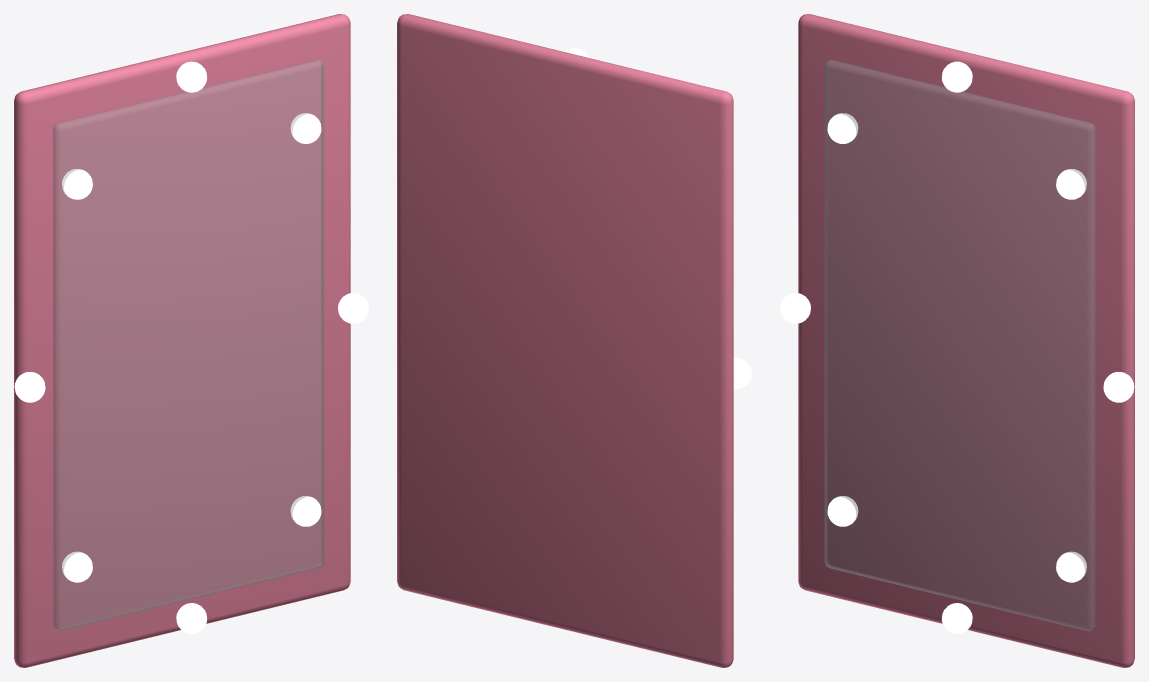
File: mirror-vanity.glb
3 views of the same model, side by side, from view 1: azimuth 30°, elevation 25°; view 2: azimuth 150°, elevation 25°; view 3: azimuth 330°, elevation 25° (orthographic).
Visible parts, largest first — view 1: mirror-vanity; view 2: mirror-vanity; view 3: mirror-vanity.
Boxes of the visible parts, <box> form: mirror-vanity: <box>14,14,368,667</box>; mirror-vanity: <box>397,14,751,667</box>; mirror-vanity: <box>780,14,1134,667</box>.
Bounding box in the file's own units: 0.65 × 1.02 × 0.07.
